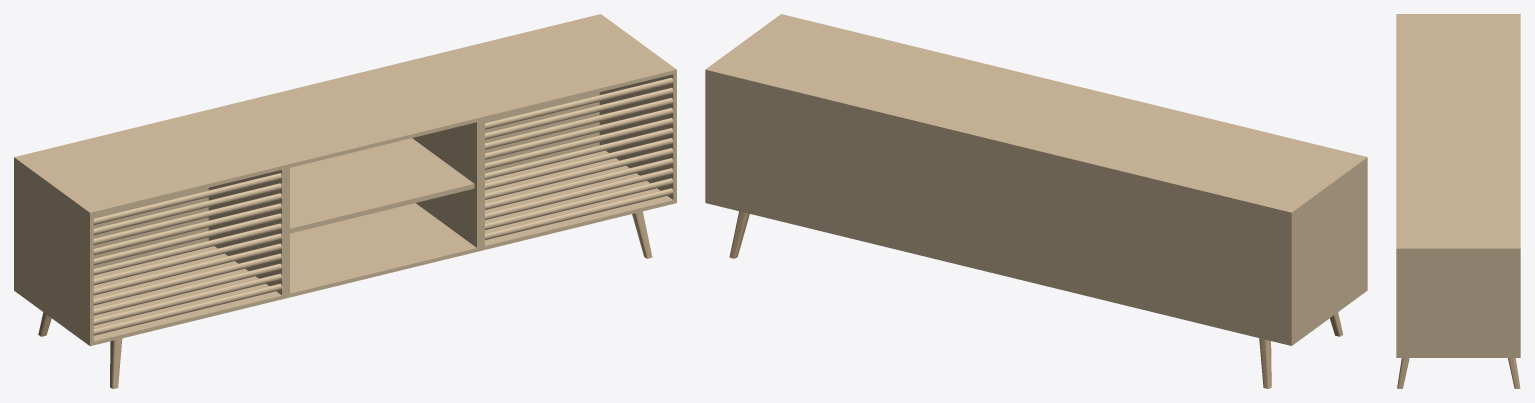
The picture shows the model from 3 angles, left to right: view 1: azimuth 30°, elevation 25°; view 2: azimuth 150°, elevation 25°; view 3: azimuth 270°, elevation 25°; orthographic projection. The views are drawn at different scales.
Parts seen in each view (by area): view 1: sideboard; view 2: sideboard; view 3: sideboard.
Boxes of the visible parts, left/top/right/bottom form: sideboard: left=14, top=14, right=676, bottom=388; sideboard: left=705, top=14, right=1367, bottom=388; sideboard: left=1396, top=14, right=1520, bottom=388.
Bounding box in the file's own units: 1.8 × 0.535 × 0.404.
